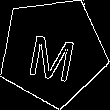M_N: (25, 22, 80, 81)
